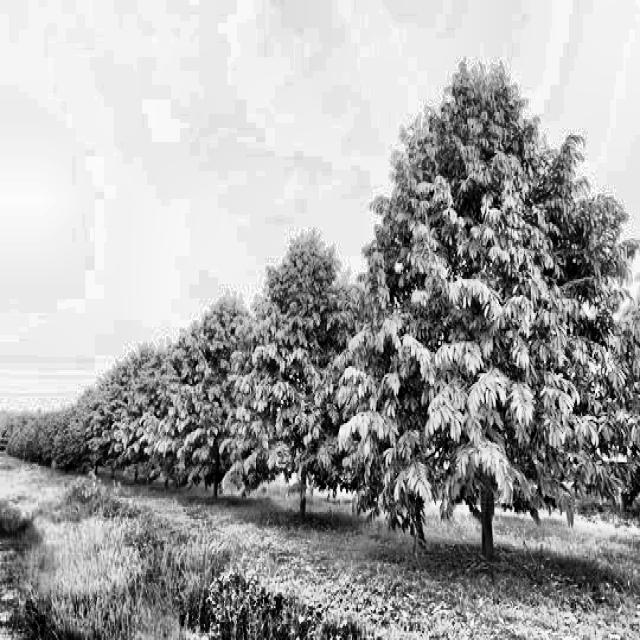arvore: (456, 383, 513, 585), (285, 423, 312, 527)
